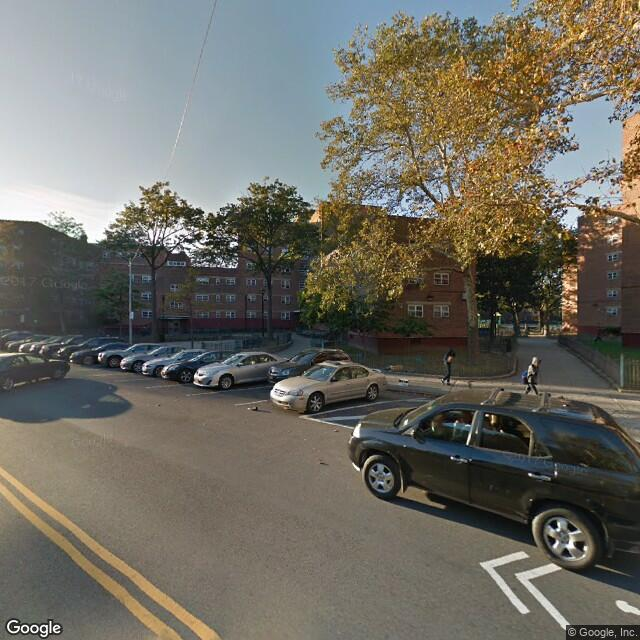litter: (397, 378, 410, 386), (248, 406, 259, 410)
